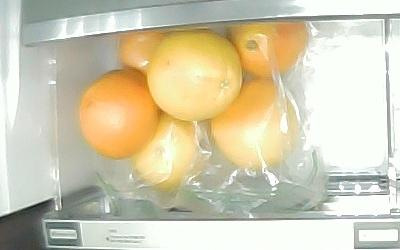grapefruit: (148, 30, 241, 121), (77, 69, 158, 159)
grapefruit_vinyl: (209, 77, 298, 169), (133, 111, 200, 192), (227, 20, 306, 78), (118, 31, 165, 69)
